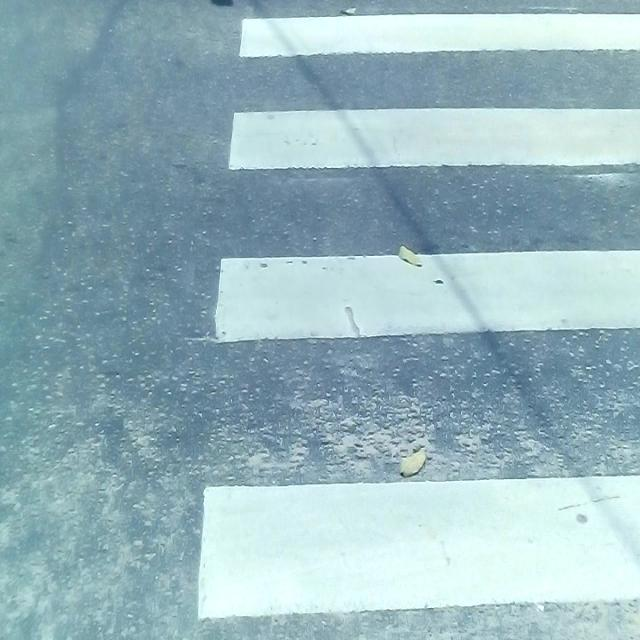crosswalk: (194, 0, 640, 640)
